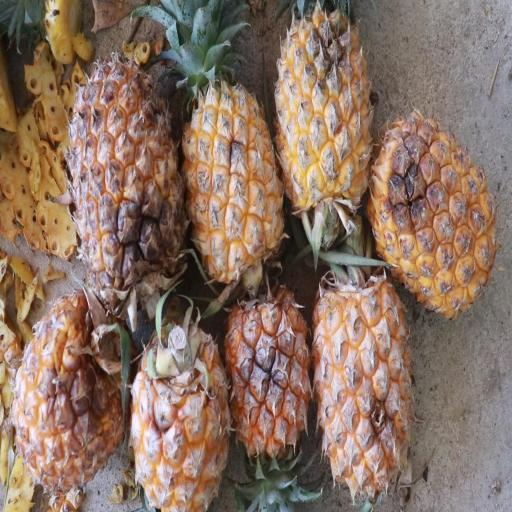Pineapple - v8 v1: (60, 41, 190, 318), (366, 88, 502, 322), (175, 11, 291, 282), (10, 275, 131, 512), (310, 255, 421, 512), (274, 0, 378, 229), (120, 301, 232, 511), (220, 274, 314, 506)
